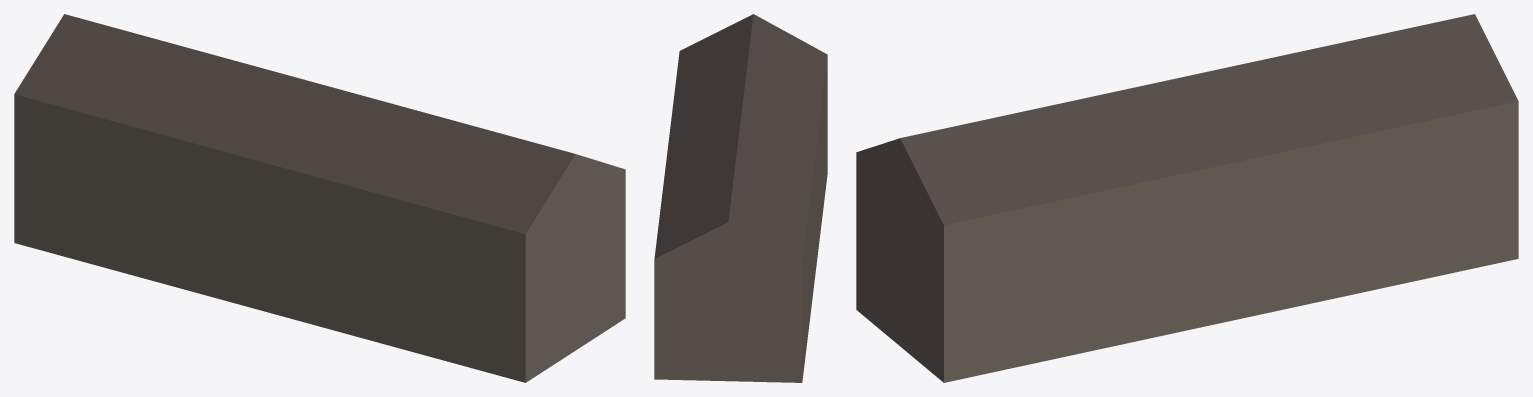
3 views of the same model, side by side, from view 1: azimuth 30°, elevation 25°; view 2: azimuth 150°, elevation 25°; view 3: azimuth 270°, elevation 25° (orthographic). The views are drawn at different scales.
Visible parts, largest first — view 1: HP-w859424181; view 2: HP-w859424181; view 3: HP-w859424181.
Boxes of the visible parts, bbox=[...] form: HP-w859424181: bbox=[14, 14, 625, 382]; HP-w859424181: bbox=[654, 14, 827, 382]; HP-w859424181: bbox=[856, 14, 1518, 382].
Bounding box in the file's own units: 24.16 × 11.9 × 34.28.
